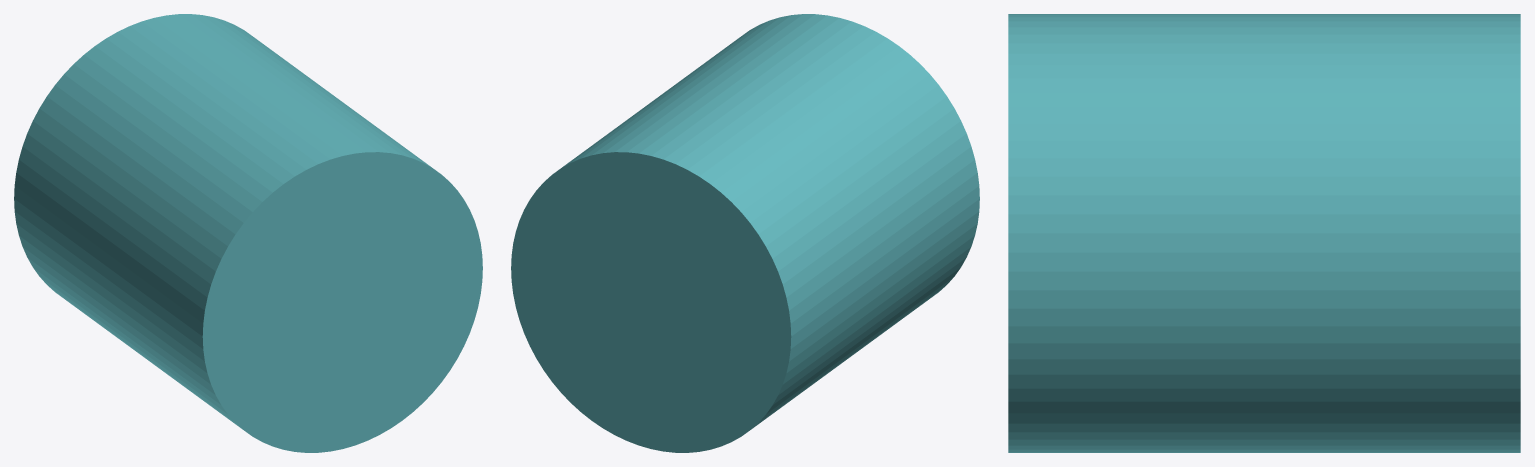
3 renders of one model, left to right at view 1: azimuth 30°, elevation 25°; view 2: azimuth 150°, elevation 25°; view 3: azimuth 270°, elevation 25°, orthographic. The views are drawn at different scales.
Parts seen in each view (by area): view 1: cylinder; view 2: cylinder; view 3: cylinder.
Part boxes in pixels (x1,y1,x2,y2): cylinder: (14,14,482,452); cylinder: (511,14,979,452); cylinder: (1008,14,1520,452).
Size of the model in its own units: 3 by 3 by 3.5.
